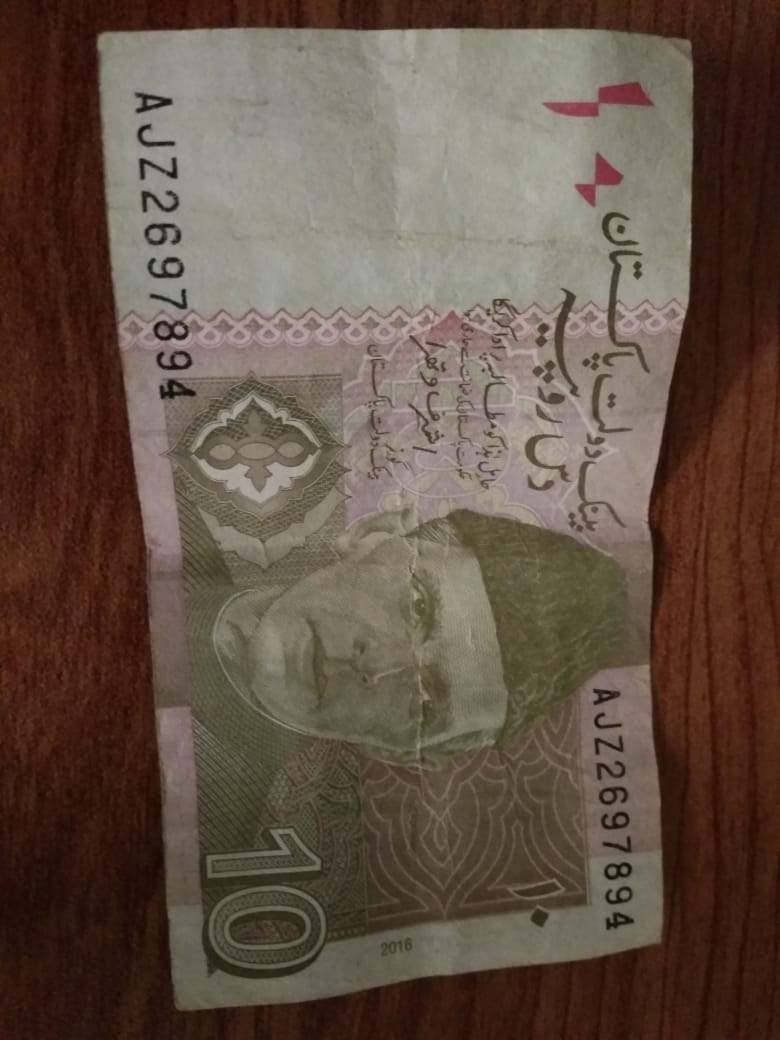10 rupee: (78, 18, 702, 1018)
